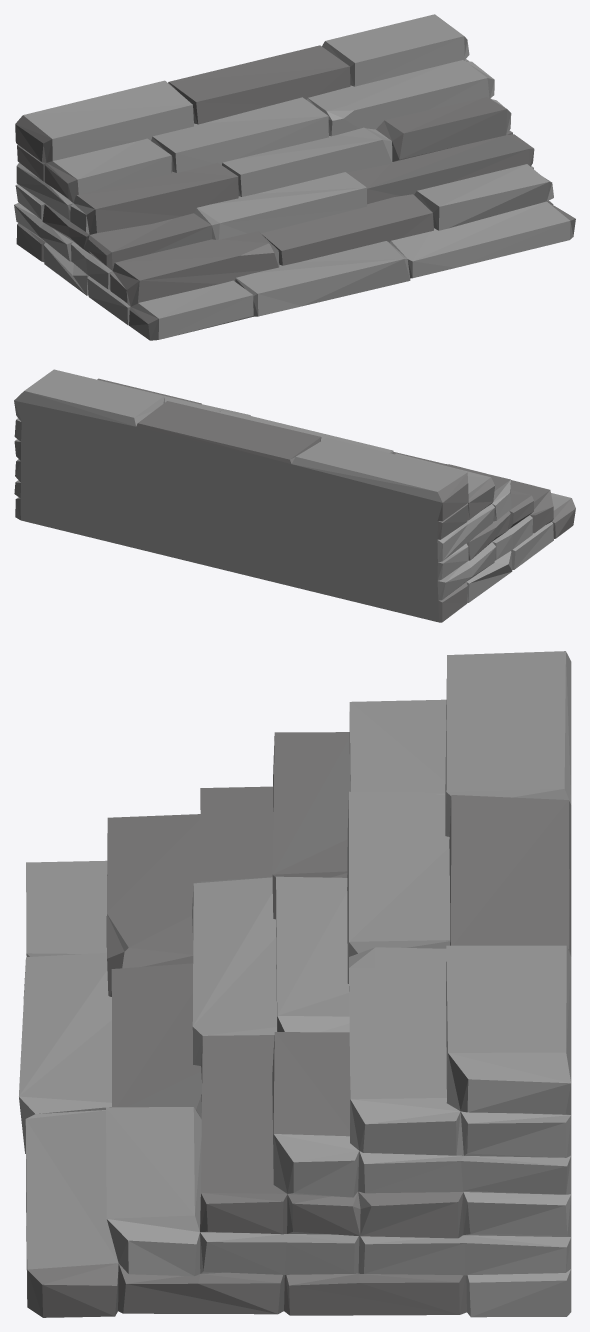
Rendered from _STAIRS_04_1.fbx.
3 renders of one model, top to bottom at view 1: azimuth 30°, elevation 25°; view 2: azimuth 150°, elevation 25°; view 3: azimuth 270°, elevation 25°, orthographic. The views are drawn at different scales.
Parts seen in each view (by area): view 1: STAIRS_04_1; view 2: STAIRS_04_1; view 3: STAIRS_04_1.
Part boxes in pixels (x1,y1,x2,y2): STAIRS_04_1: (14,14,575,340); STAIRS_04_1: (14,369,575,622); STAIRS_04_1: (19,651,571,1317).
Bounding box in the file's own units: 186 × 53.1 × 103.
